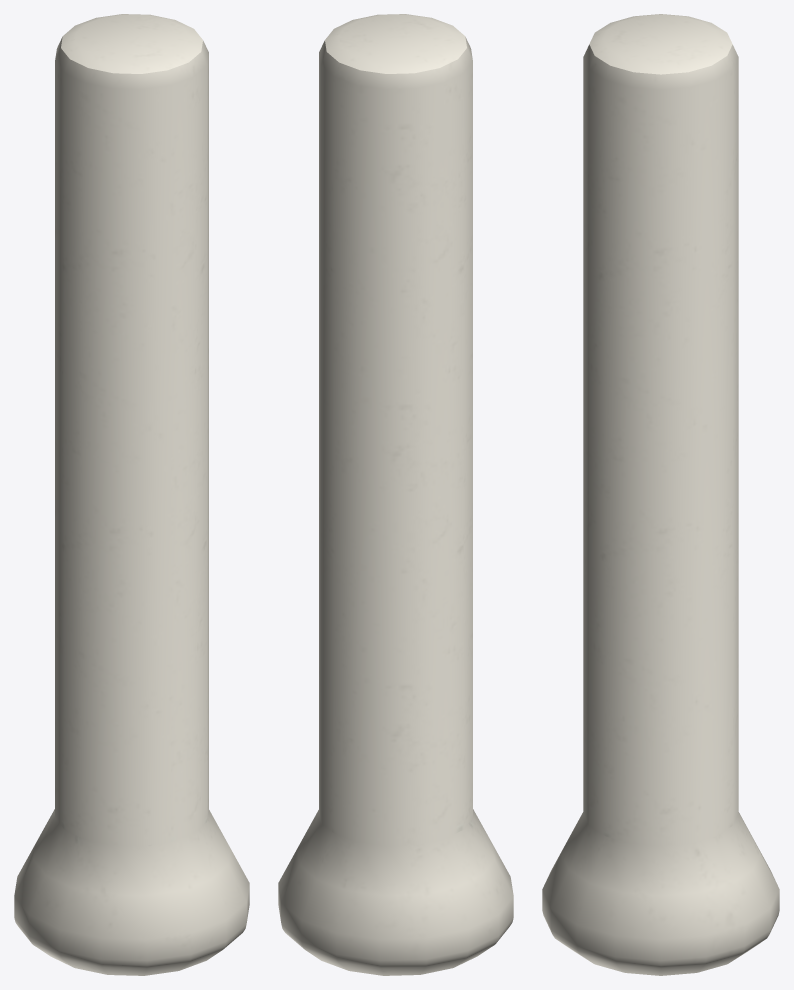
File: penumbuk.fbx
3 views of the same model, side by side, from view 1: azimuth 30°, elevation 25°; view 2: azimuth 150°, elevation 25°; view 3: azimuth 270°, elevation 25° (orthographic).
Visible parts, largest first — view 1: Mortarr 16cm; view 2: Mortarr 16cm; view 3: Mortarr 16cm.
Boxes of the visible parts, x1=… form: Mortarr 16cm: x1=14, y1=14, x2=249, y2=975; Mortarr 16cm: x1=278, y1=14, x2=513, y2=975; Mortarr 16cm: x1=542, y1=14, x2=779, y2=975.
Bounding box in the file's own units: 4.11 × 17.35 × 4.11.
